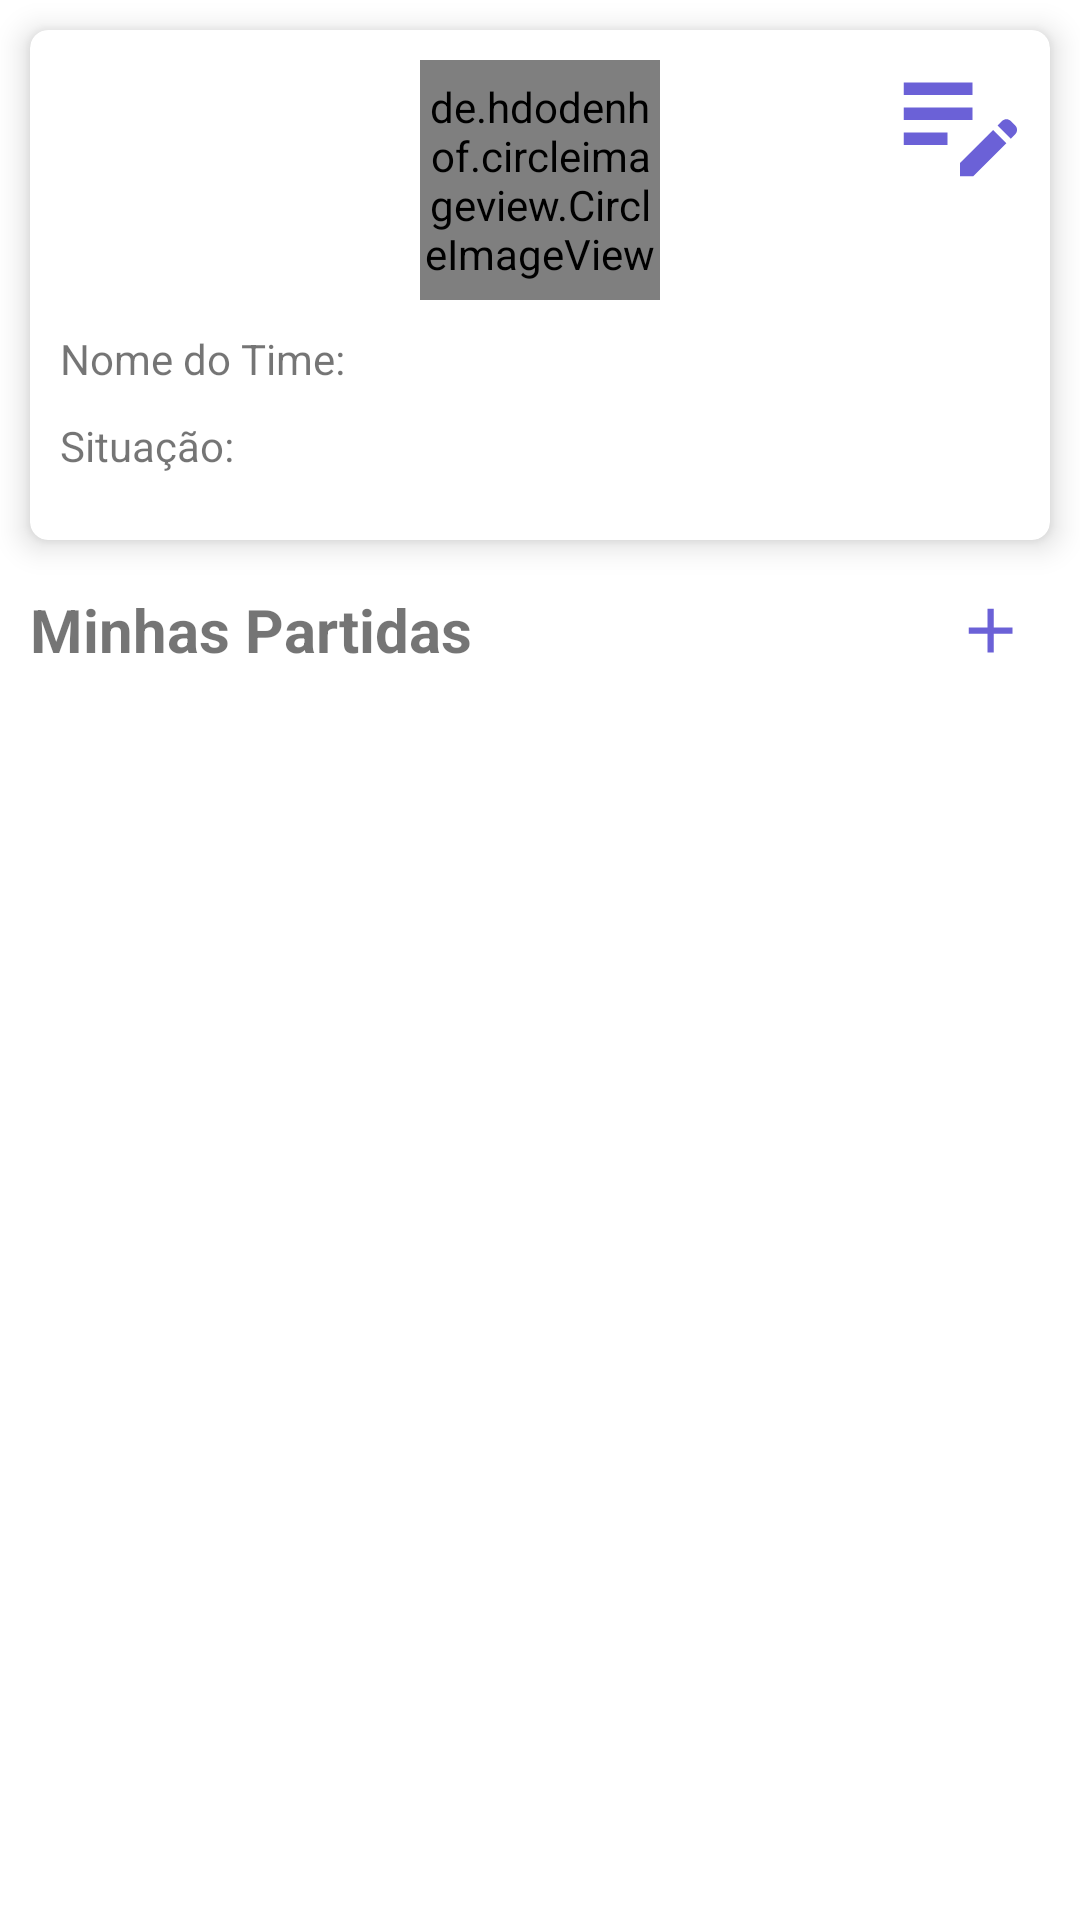

Named icons in this screenshot (1080 × 1920) and their centers, (x,y):
add: (990,630)
edit: (960,129)
